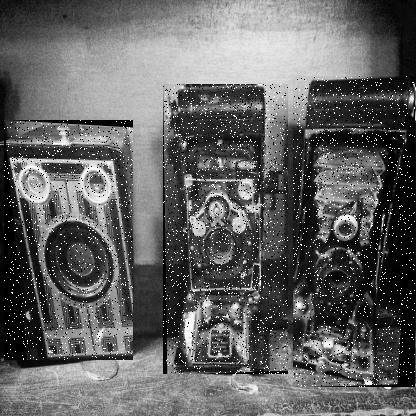Camera: (294, 77, 416, 389), (164, 85, 290, 376), (5, 121, 135, 362)
